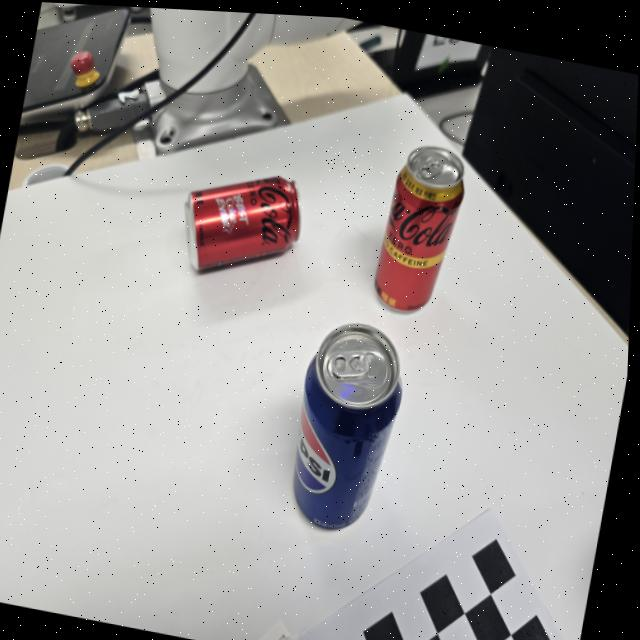can_coke_decaf: (373, 146, 464, 312)
can_coke_zero: (184, 177, 302, 271)
can_pepsi: (293, 322, 403, 526)
